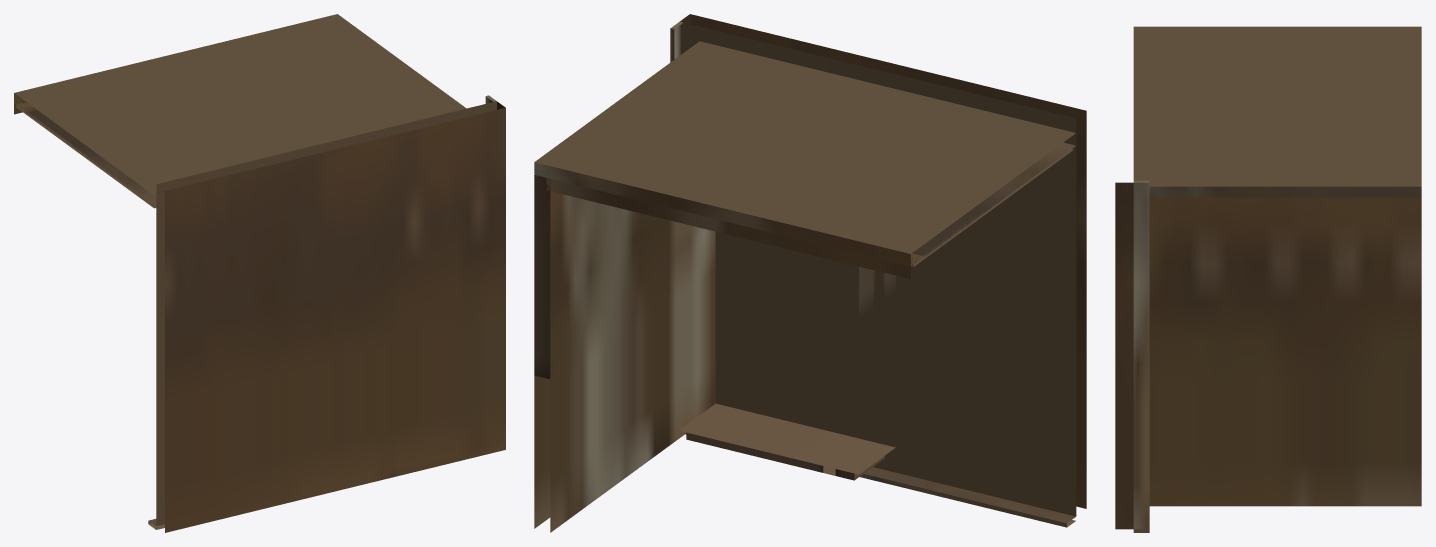
Rendered from section-6.obj.
The picture shows the model from 3 angles, left to right: view 1: azimuth 30°, elevation 25°; view 2: azimuth 150°, elevation 25°; view 3: azimuth 270°, elevation 25°; orthographic projection. The views are drawn at different scales.
Size of the model in its own units: 0.99 by 0.96 by 0.76.
